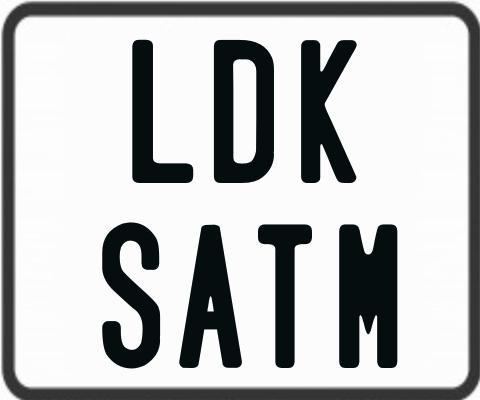A: (176, 222, 239, 371)
D: (214, 40, 280, 186)
K: (301, 38, 360, 187)
L: (130, 40, 191, 185)
M: (337, 223, 398, 369)
S: (102, 221, 164, 369)
T: (256, 222, 310, 371)
